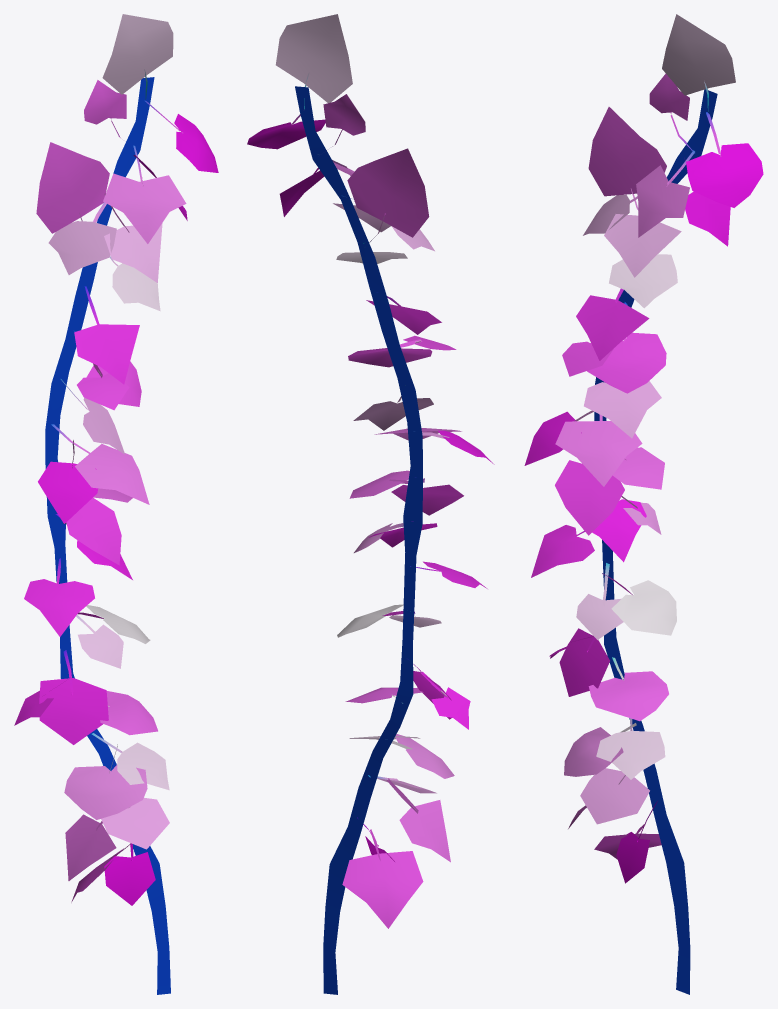
The model's file is English_Ivy_xfcnebhqx_High_xfcnebhqx_VarC_LOD2.fbx.
3 views of the same model, side by side, from view 1: azimuth 30°, elevation 25°; view 2: azimuth 150°, elevation 25°; view 3: azimuth 330°, elevation 25° (orthographic). The views are drawn at different scales.
Parts seen in each view (by area): view 1: _gk9n_VarC_LOD2; view 2: _gk9n_VarC_LOD2; view 3: _gk9n_VarC_LOD2.
Part boxes in pixels (x1,y1,x2,y2): _gk9n_VarC_LOD2: (14, 14, 218, 994); _gk9n_VarC_LOD2: (247, 14, 494, 994); _gk9n_VarC_LOD2: (524, 14, 763, 994).
Bounding box in the file's own units: 16.49 × 75.76 × 9.53.
